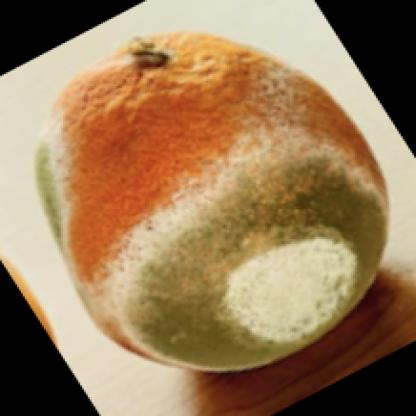rotten: (40, 34, 389, 376)
